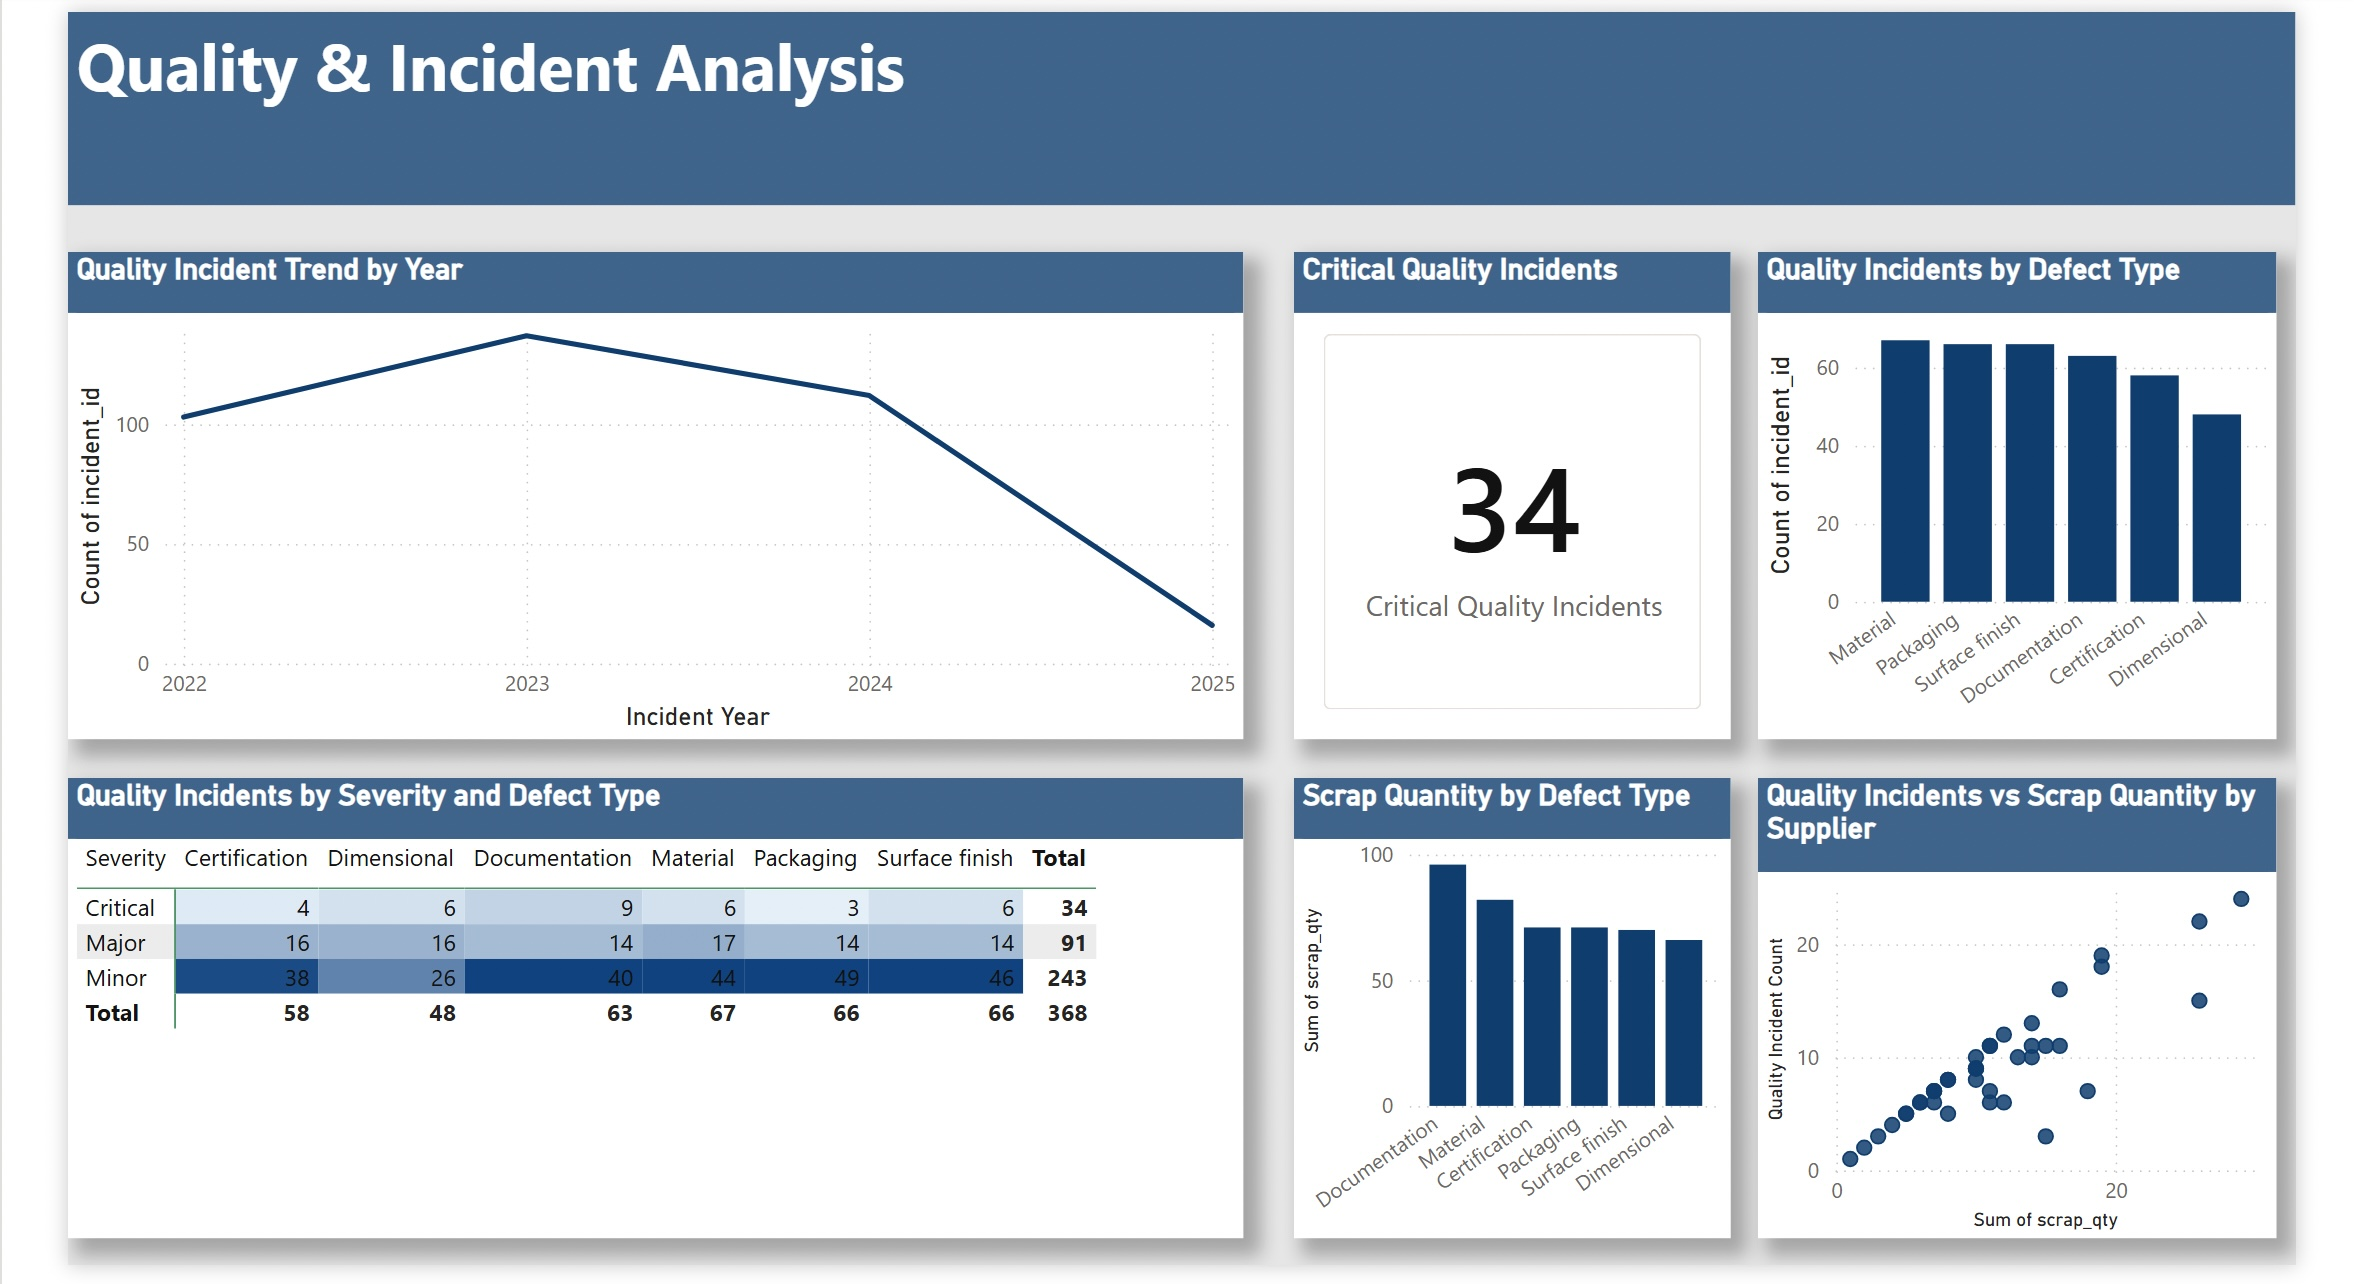

The dashboard page shown, as its layout file describes it:
{"tool":"powerbi","page":{"name":"Quality & Incidents","canvas":[1280,720],"ordinal":4},"visuals":[{"type":"pivotTable","title":"Quality Incidents by Severity and Defect Type","fields":{"Rows":["supply_chain_project quality_incidents.defect_severity"],"Columns":["supply_chain_project quality_incidents.defect_type"],"Values":["Count(supply_chain_project quality_incidents.incident_id)"]},"box":[0,440,675.6,264.4],"z":0},{"type":"clusteredColumnChart","title":"Scrap Quantity by Defect Type","fields":{"Category":["supply_chain_project quality_incidents.defect_type"],"Y":["Sum(supply_chain_project quality_incidents.scrap_qty)"]},"box":[704.4,440,251.1,264.4],"z":1000},{"type":"lineChart","title":"Quality Incident Trend by Year","fields":{"Y":["CountNonNull(supply_chain_project quality_incidents.incident_id)"],"Category":["supply_chain_project quality_incidents.Incident Year"]},"box":[0,137.8,675.6,280],"z":2000},{"type":"scatterChart","title":"Quality Incidents vs Scrap Quantity by Supplier","fields":{"Category":["supply_chain_project quality_incidents.supplier_id"],"X":["Sum(supply_chain_project quality_incidents.scrap_qty)"],"Y":["supply_chain_project quality_incidents.Quality Incident Count"]},"box":[971.1,440,297.8,264.4],"z":3000},{"type":"cardVisual","title":"Critical Quality Incidents","fields":{"Data":["supply_chain_project quality_incidents.Critical Quality Incidents"]},"box":[704.4,137.8,251.1,280],"z":4000},{"type":"clusteredColumnChart","title":"Quality Incidents by Defect Type ","fields":{"Category":["supply_chain_project quality_incidents.defect_type"],"Y":["CountNonNull(supply_chain_project quality_incidents.incident_id)"]},"box":[971.1,137.8,297.8,280],"z":5000},{"type":"textbox","box":[0,0,1280,111.1],"z":6000}]}

Visuals, with their boxes in screenshot pixels (x1, y1, x2, y2):
"Quality Incidents by Severity and Defect Type" pivotTable: box=[55, 772, 1241, 1236]
"Scrap Quantity by Defect Type" clusteredColumnChart: box=[1291, 772, 1732, 1236]
"Quality Incident Trend by Year" lineChart: box=[55, 242, 1241, 733]
"Quality Incidents vs Scrap Quantity by Supplier" scatterChart: box=[1759, 772, 2282, 1236]
"Critical Quality Incidents" cardVisual: box=[1291, 242, 1732, 733]
"Quality Incidents by Defect Type " clusteredColumnChart: box=[1759, 242, 2282, 733]
textbox: box=[55, 0, 2301, 195]
